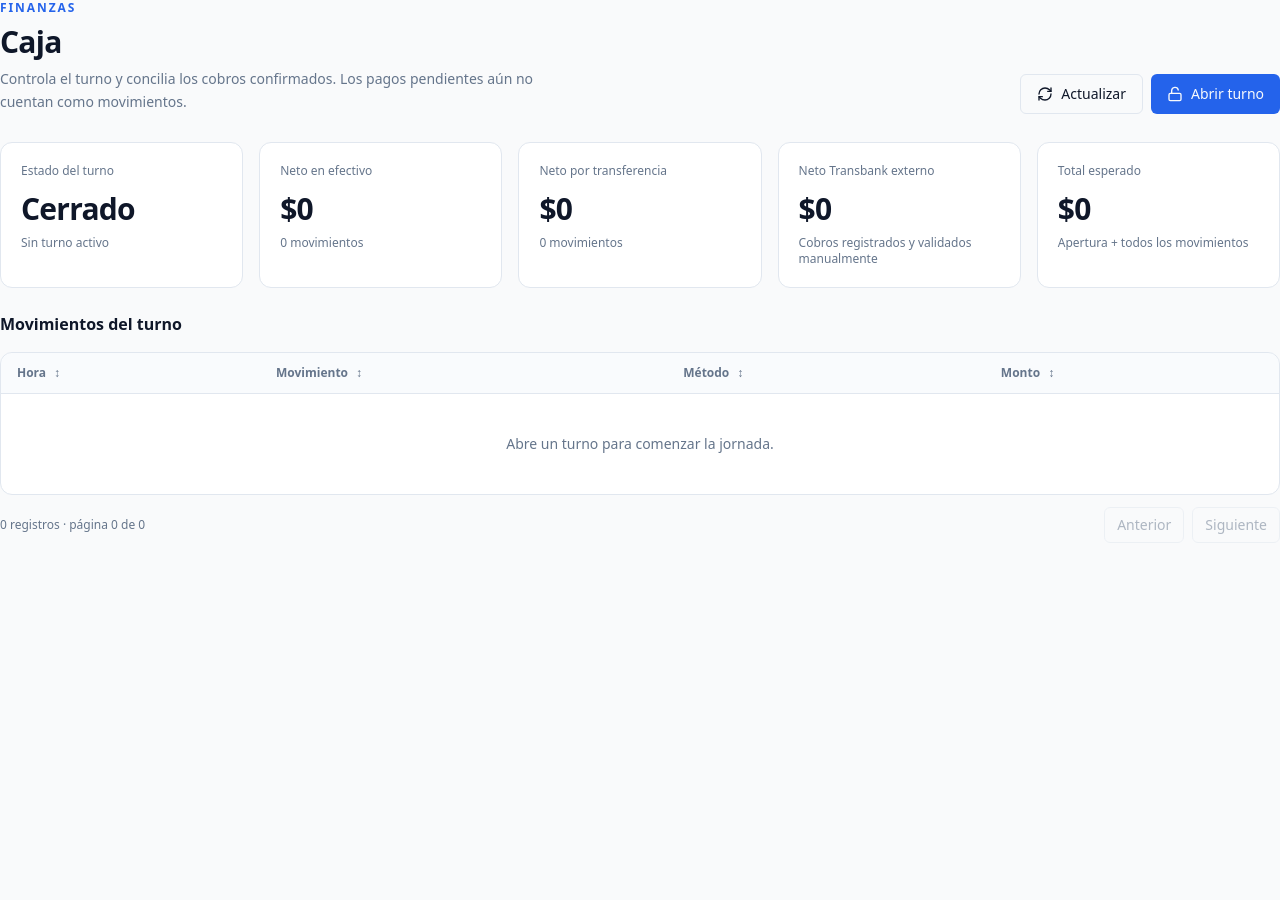
SPEC 019 CA-5 — UI de abonos parciales y estados de conciliación › Cash.tsx muestra la etiqueta de conciliación en el último cierre (Cuadrada / Con diferencia)
// Abrir turno
Click the button "Abrir turno" at [1216, 94], box [1151, 74, 1279, 114]
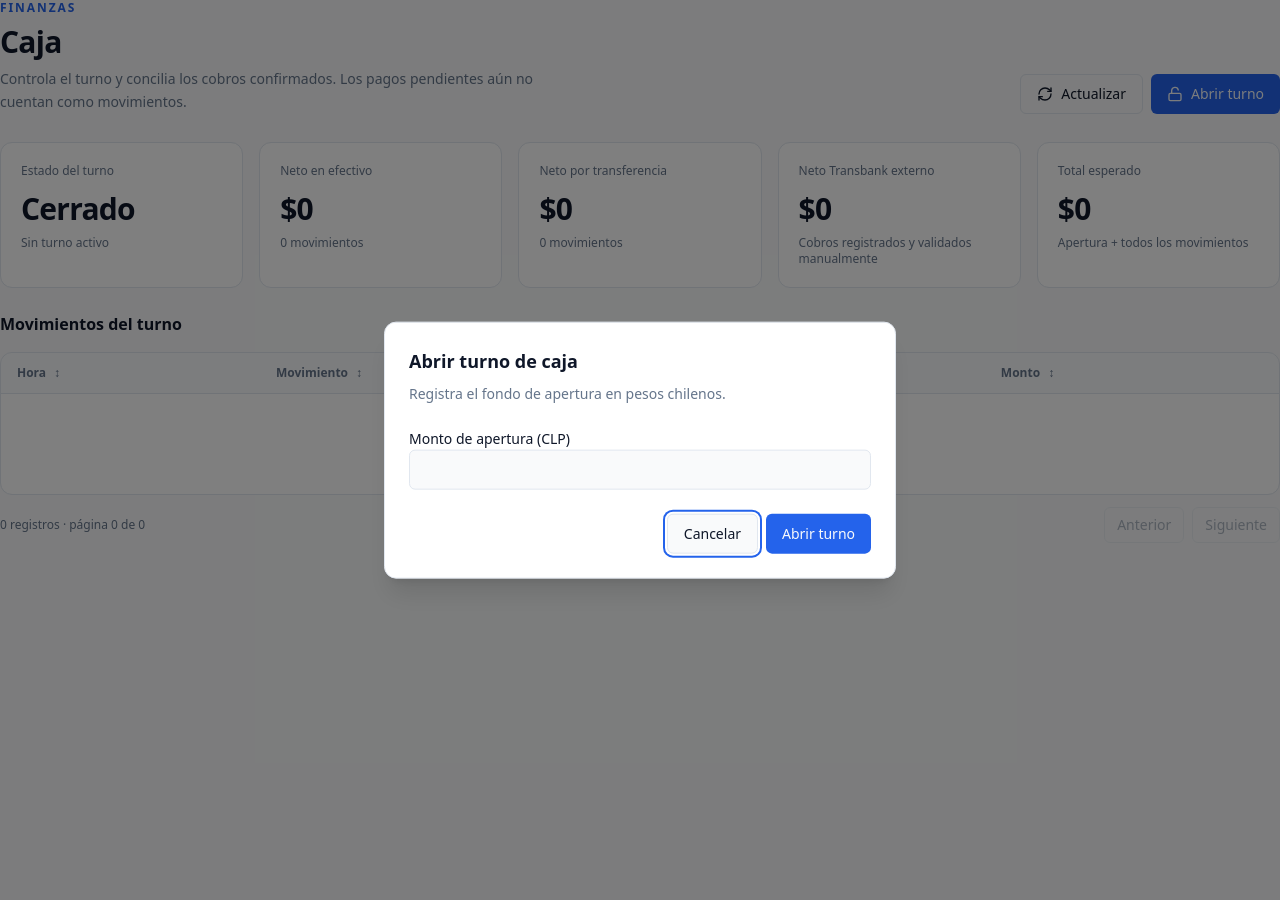
Type "10000" into the number field labelled "Monto de apertura (CLP)" at [640, 469], box [409, 449, 871, 489]
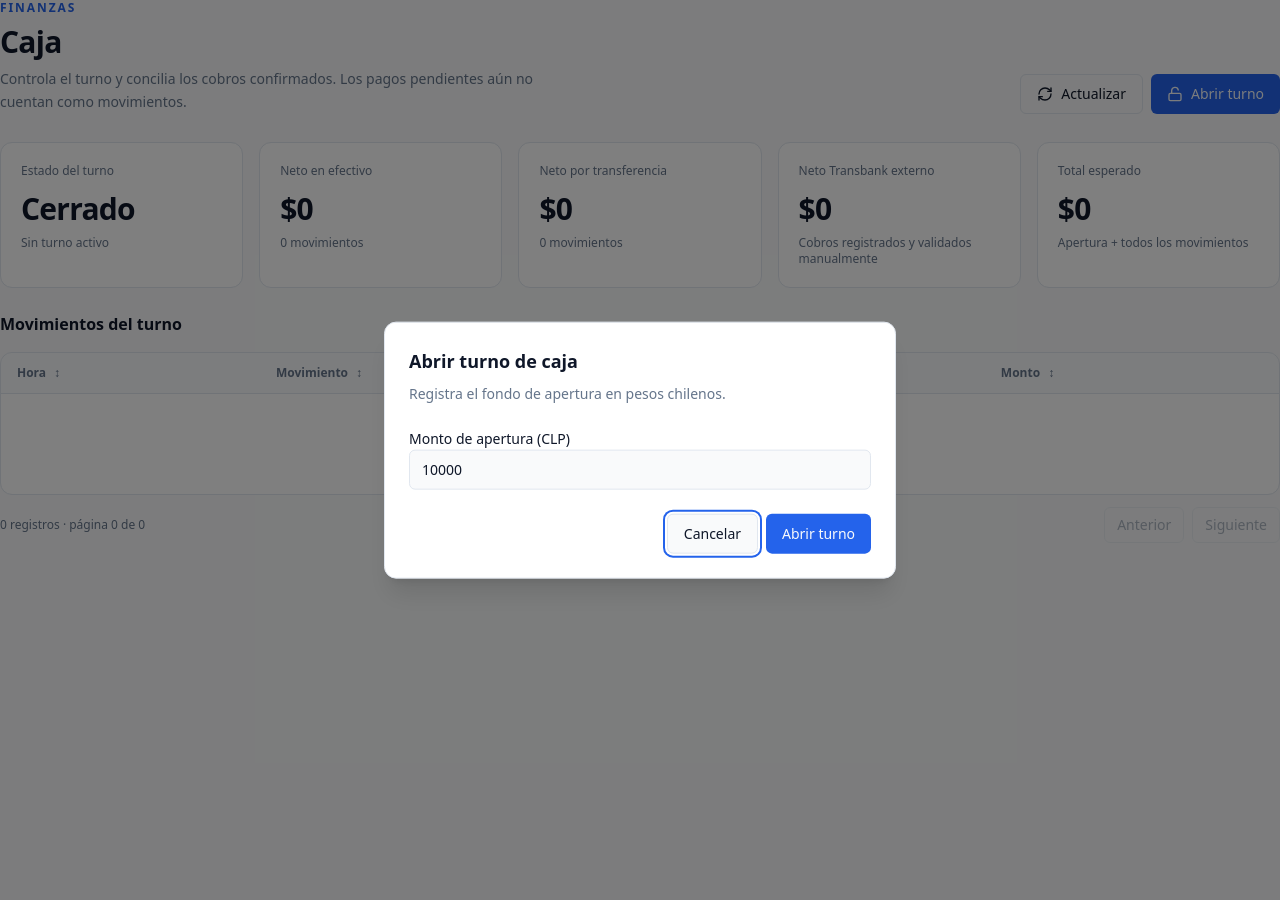
Click the button "Abrir turno" at [818, 533], box [766, 513, 871, 553]
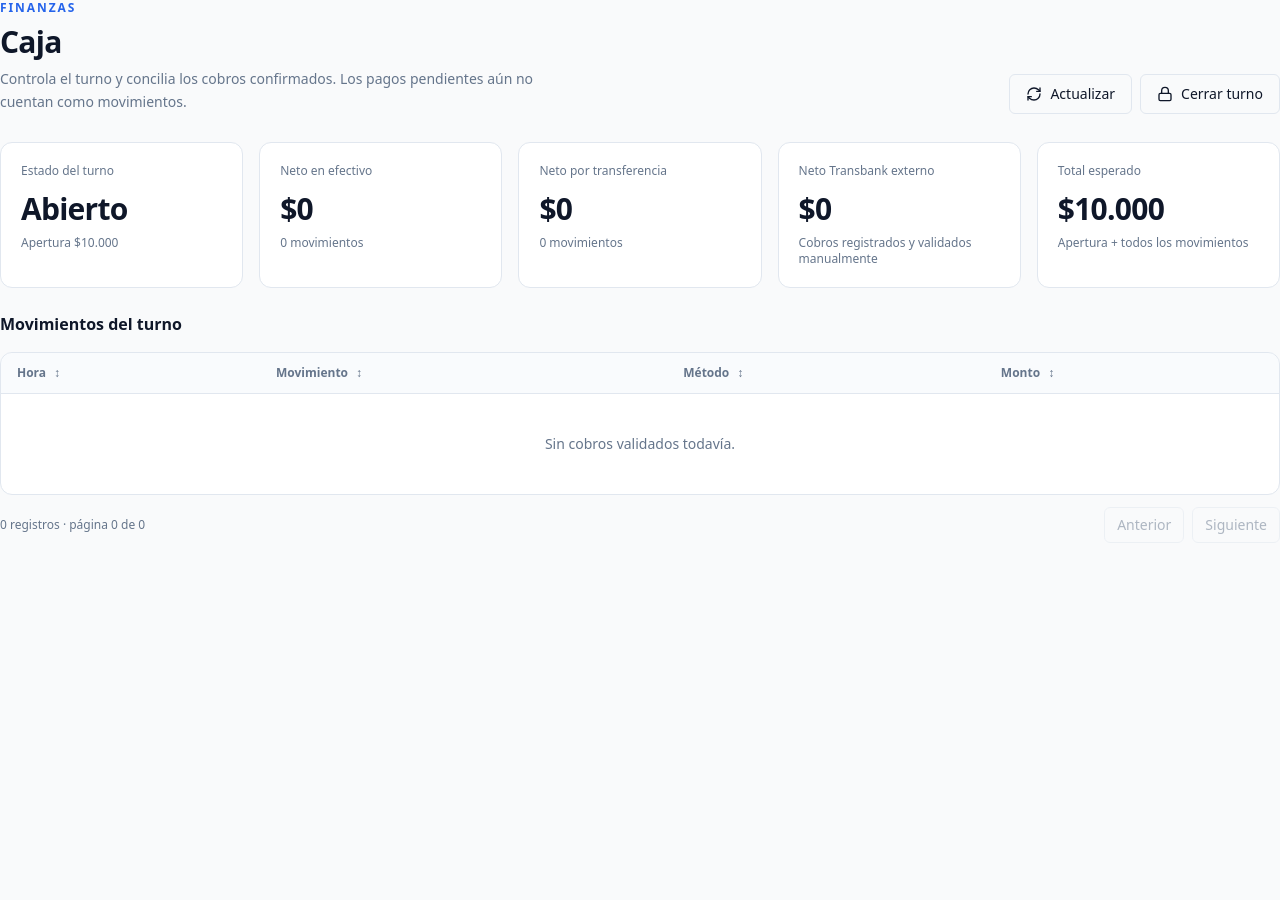
expect the dialog is gone: met
expect the button "Cerrar turno" is shown: met
Click the button "Cerrar turno" at [1210, 94], box [1140, 74, 1279, 114]
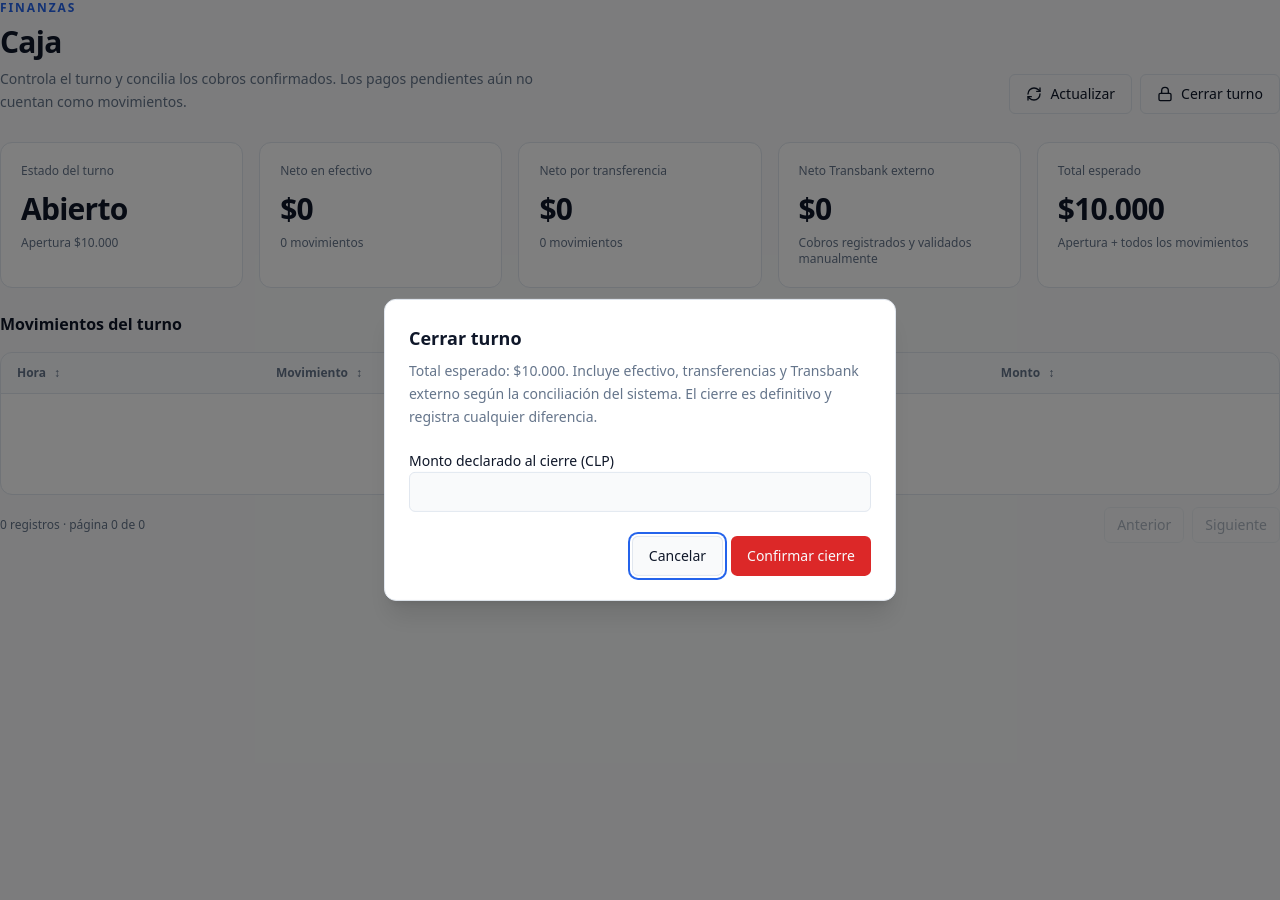
Type "10000" into the number field labelled "Monto declarado al cierre (CLP)" at [640, 492], box [409, 472, 871, 512]
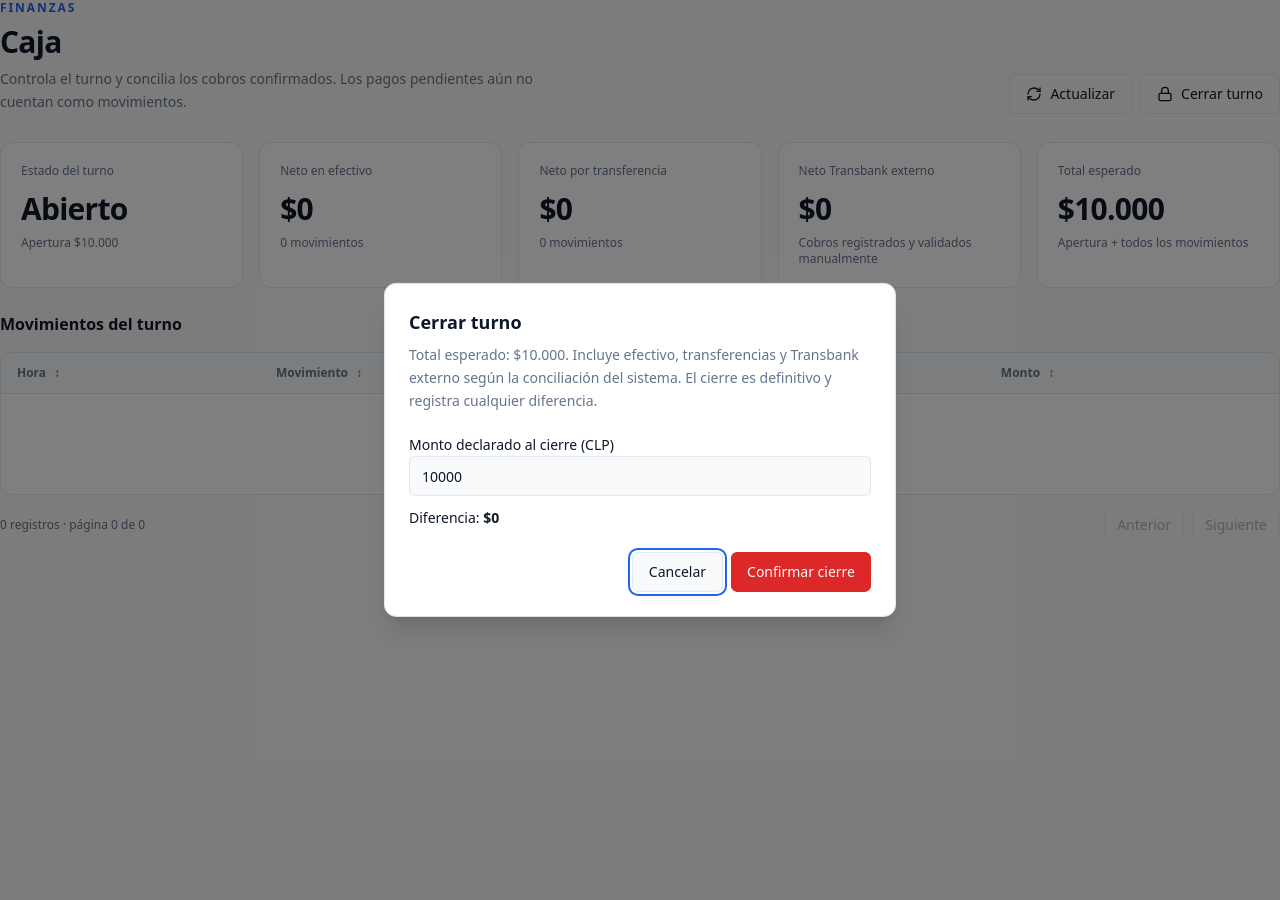
Click the button "Confirmar cierre" at [801, 572], box [731, 552, 871, 592]
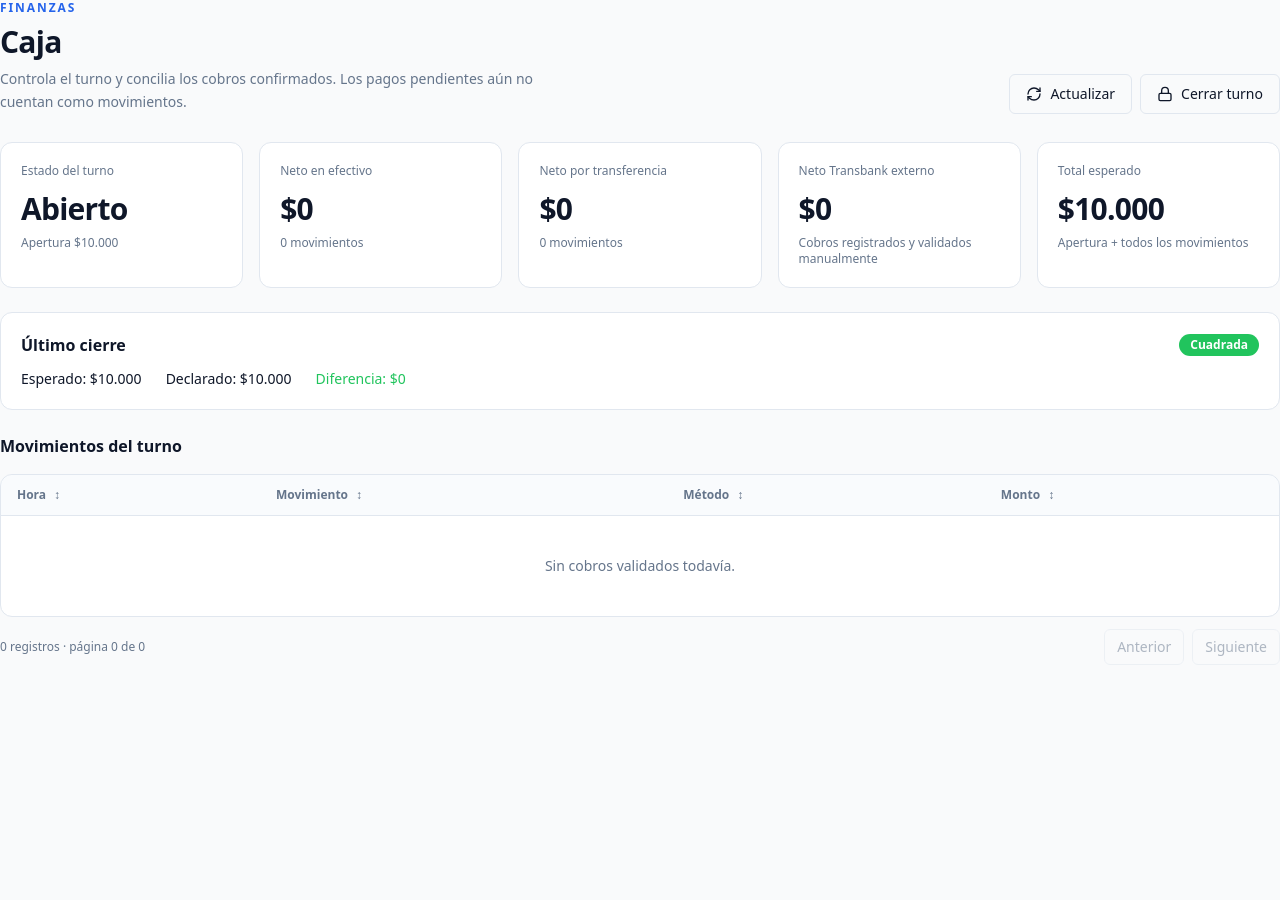
expect the text "Cuadrada" is shown: met, box [1179, 334, 1259, 356]
